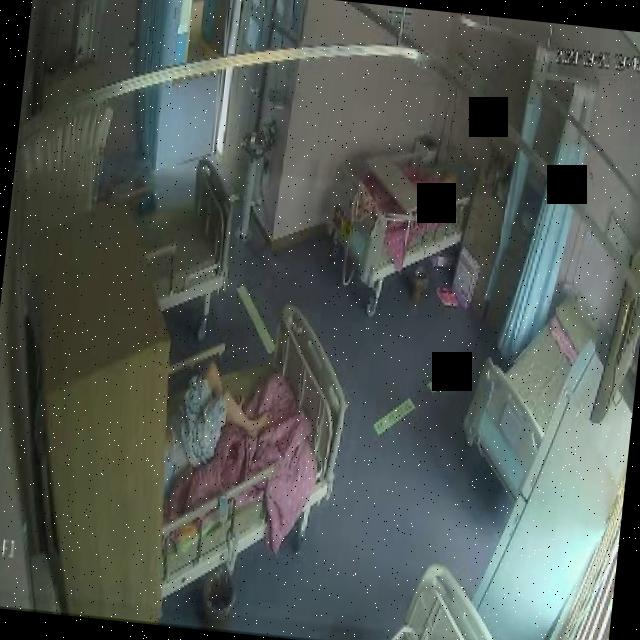bed: (148, 294, 356, 576), (306, 114, 478, 318), (454, 294, 594, 508), (126, 148, 240, 318)
lie: (160, 361, 276, 476)
patient: (158, 360, 272, 476)
